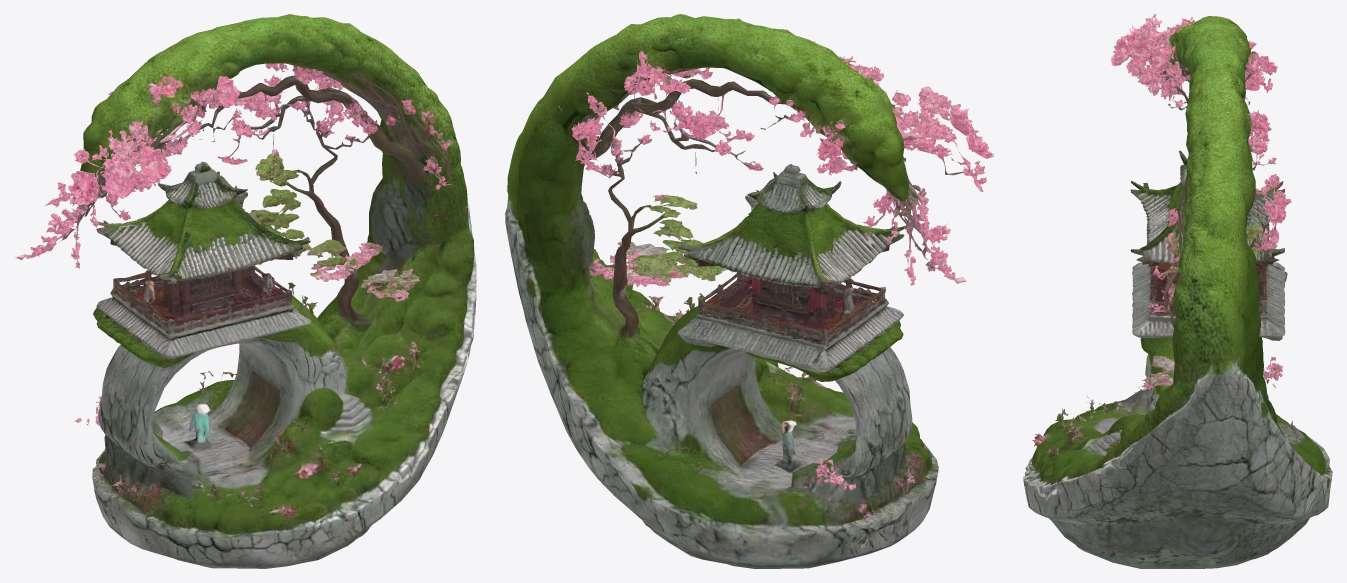
The model's file is bq_moongate.glb.
3 views of the same model, side by side, from view 1: azimuth 30°, elevation 25°; view 2: azimuth 150°, elevation 25°; view 3: azimuth 270°, elevation 25° (orthographic). The views are drawn at different scales.
Size of the model in its own units: 1.84 by 1.9 by 1.11.
Materials: 1 (1 with a texture image).
